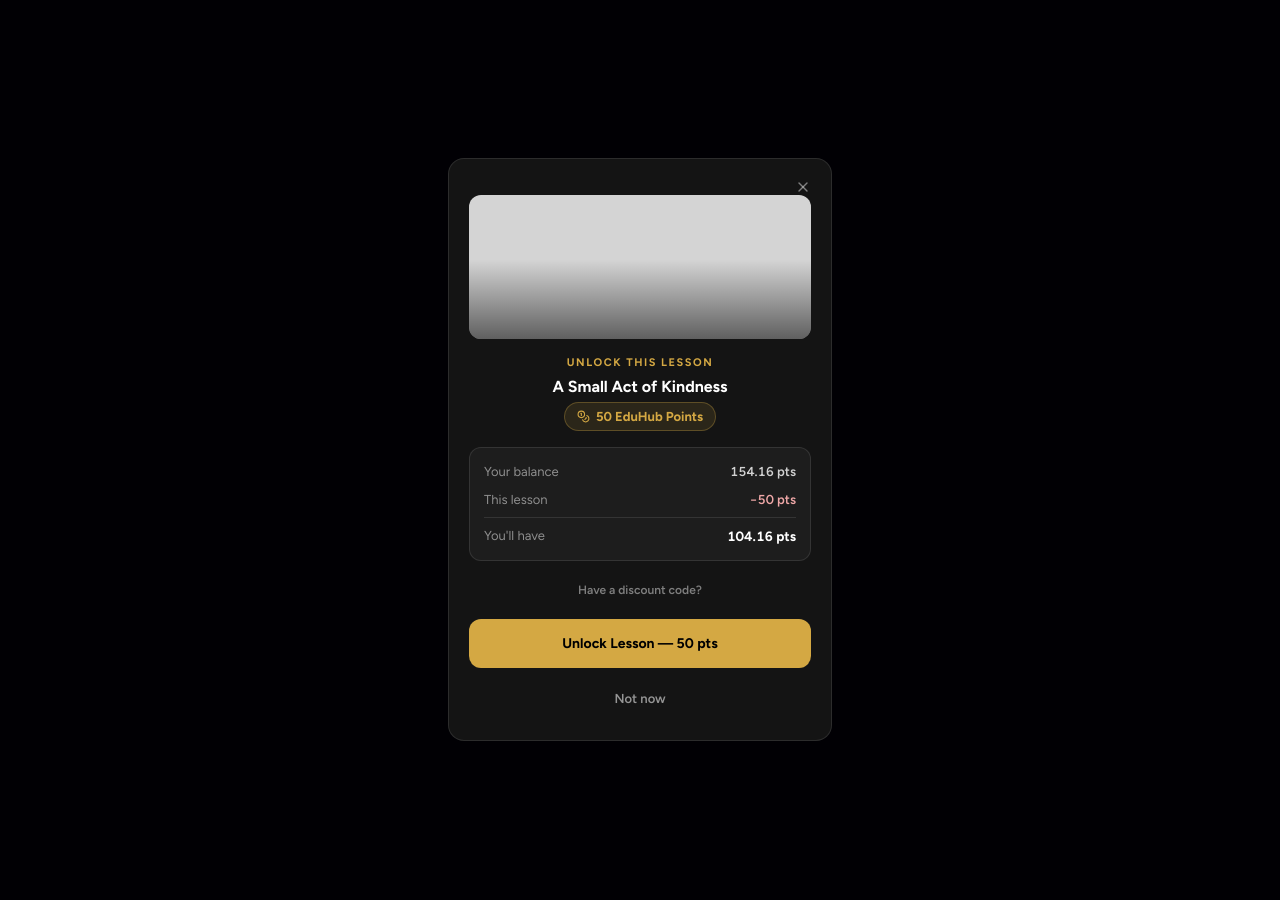
network error surfaces a friendly retryable message, never a raw stack
The image size is (1280, 900).
What coordinates should you click on to do the following:
click the button with test id "video-purchase-confirm-button"
I would click on:
 (640, 644)
Its box is [469,620,811,669].
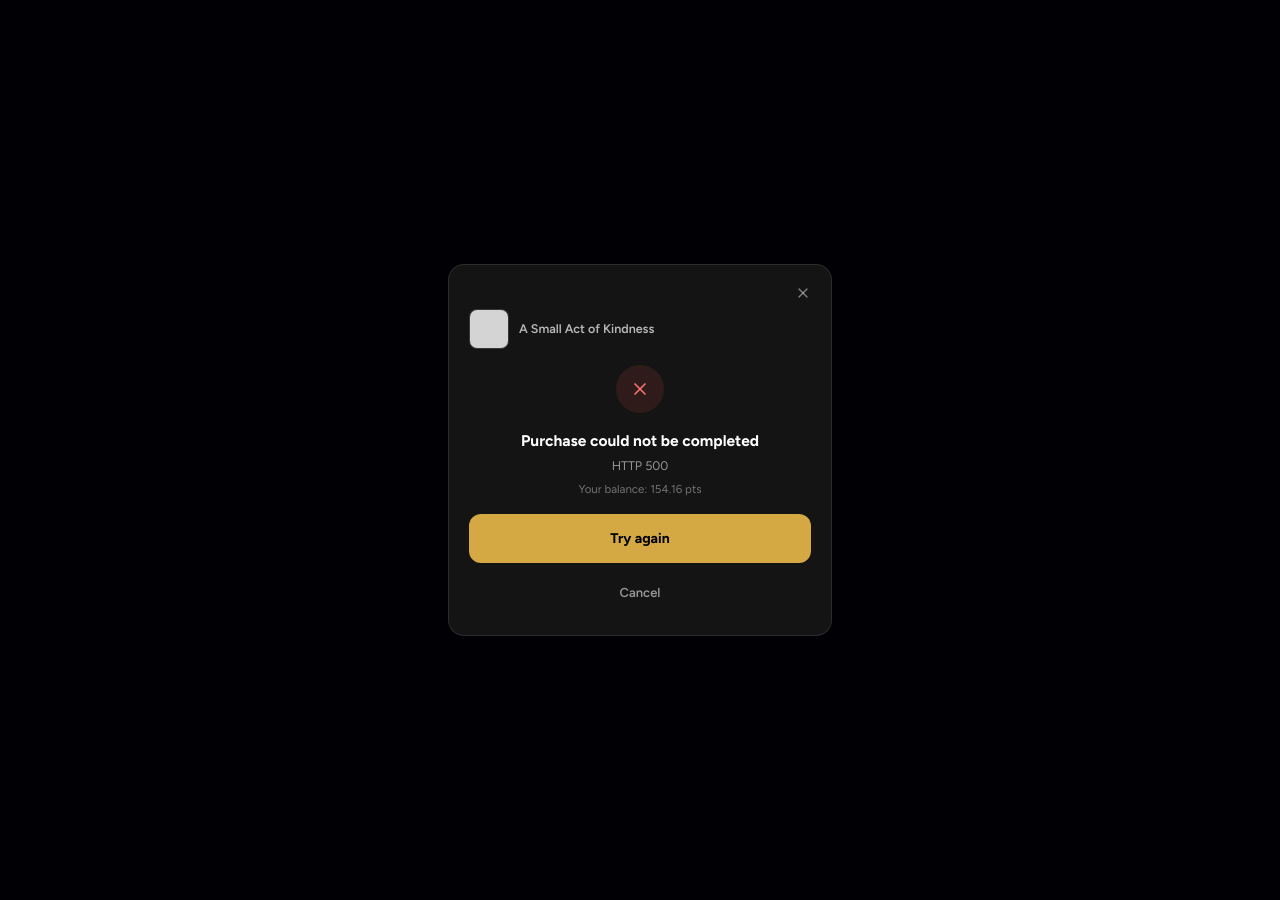
Expected: the element with test id "video-purchase-error" is shown, [469,301,811,615]
Expected: the button with test id "video-purchase-retry-button" is shown, [469,514,811,563]
